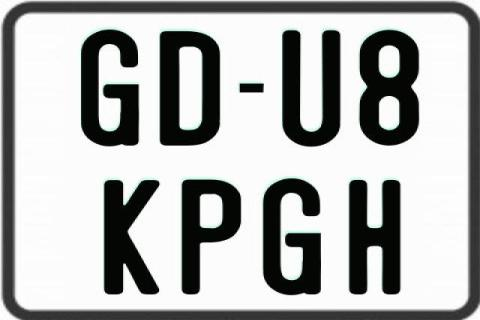0: (356, 27, 420, 148)
D: (160, 31, 224, 149)
G: (260, 177, 324, 295), (81, 28, 142, 146)
H: (348, 179, 404, 295)
K: (104, 180, 163, 294)
P: (179, 178, 241, 298)
U: (279, 31, 338, 150)
